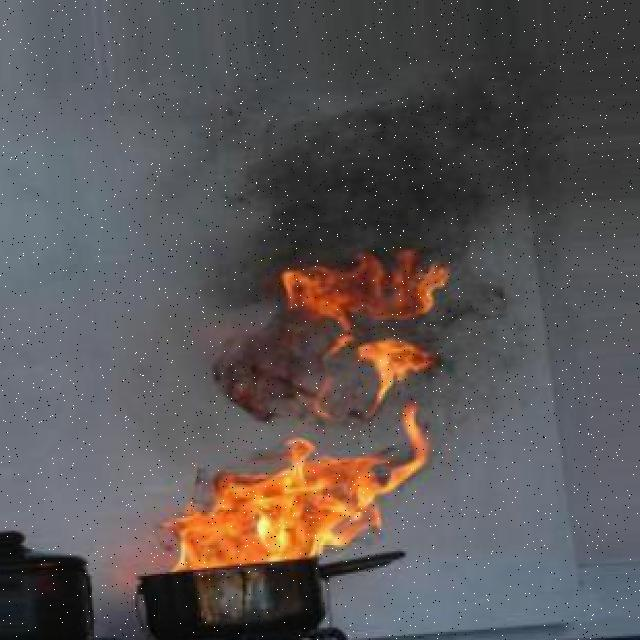fire: (135, 423, 474, 568), (315, 252, 447, 417)
smoke: (218, 80, 529, 276), (207, 302, 315, 421)
